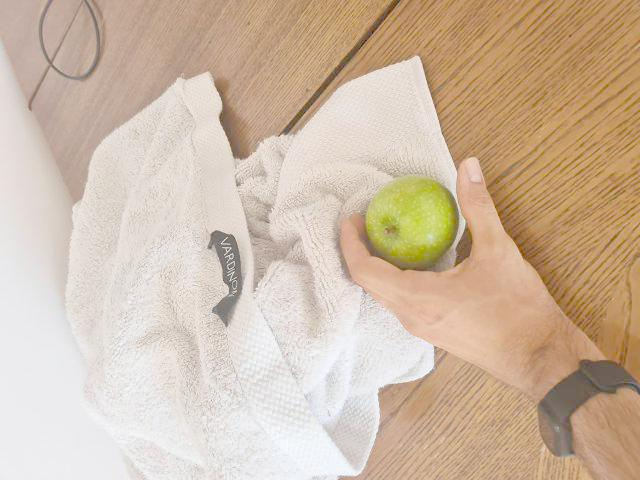apple: (375, 168, 461, 279)
